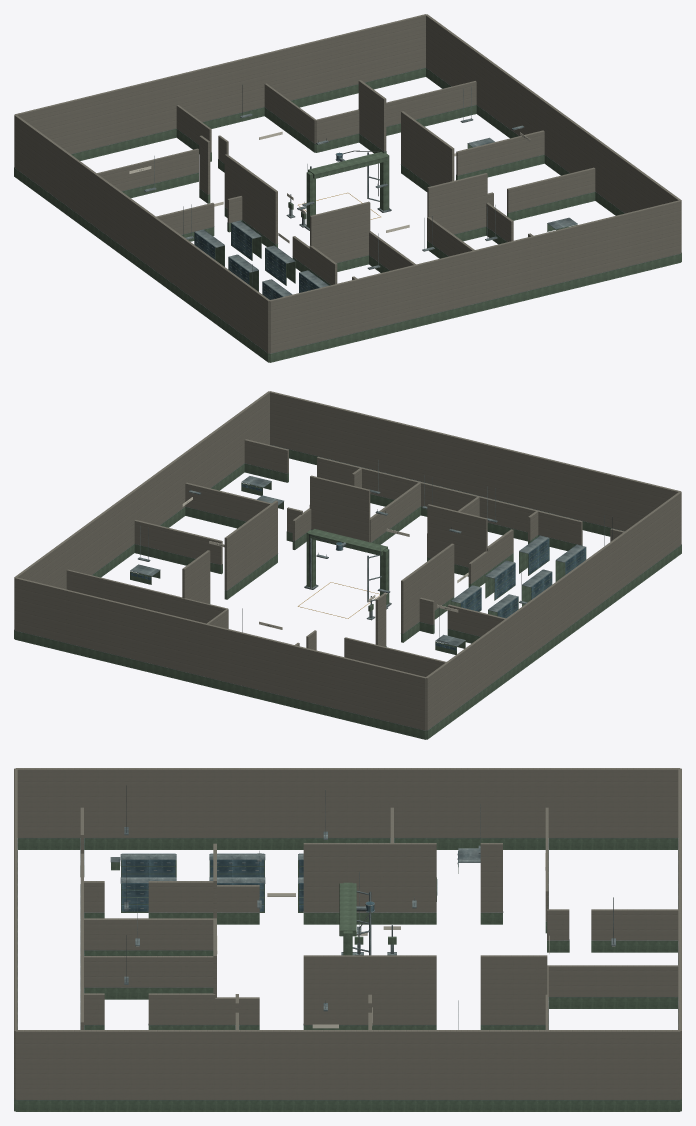
The model's file is containment_lining.glb.
3 renders of one model, top to bottom at view 1: azimuth 30°, elevation 25°; view 2: azimuth 150°, elevation 25°; view 3: azimuth 270°, elevation 25°, orthographic. The views are drawn at different scales.
Visible parts, largest first — view 1: containment_lining / containment_plaster, containment_lining / containment_sage_enamel, containment_lining / containment_worn_steel, containment_lining / containment_bluegray_enamel; view 2: containment_lining / containment_plaster, containment_lining / containment_sage_enamel, containment_lining / containment_worn_steel, containment_lining / containment_bluegray_enamel; view 3: containment_lining / containment_plaster, containment_lining / containment_sage_enamel, containment_lining / containment_worn_steel, containment_lining / containment_bluegray_enamel.
Boxes of the visible parts, x1=… form: containment_lining / containment_plaster: x1=14, y1=14, x2=681, y2=353; containment_lining / containment_sage_enamel: x1=14, y1=68, x2=681, y2=362; containment_lining / containment_worn_steel: x1=14, y1=67, x2=681, y2=353; containment_lining / containment_bluegray_enamel: x1=194, y1=153, x2=342, y2=299; containment_lining / containment_plaster: x1=14, y1=391, x2=681, y2=730; containment_lining / containment_sage_enamel: x1=14, y1=449, x2=681, y2=739; containment_lining / containment_worn_steel: x1=14, y1=444, x2=681, y2=730; containment_lining / containment_bluegray_enamel: x1=130, y1=484, x2=585, y2=650; containment_lining / containment_plaster: x1=14, y1=768, x2=681, y2=1099; containment_lining / containment_sage_enamel: x1=14, y1=838, x2=681, y2=1111; containment_lining / containment_worn_steel: x1=14, y1=785, x2=681, y2=1100; containment_lining / containment_bluegray_enamel: x1=121, y1=851, x2=458, y2=911.
Size of the model in its own units: 56.35 by 8.01 by 60.35.
Materials: 7 (4 with a texture image).
